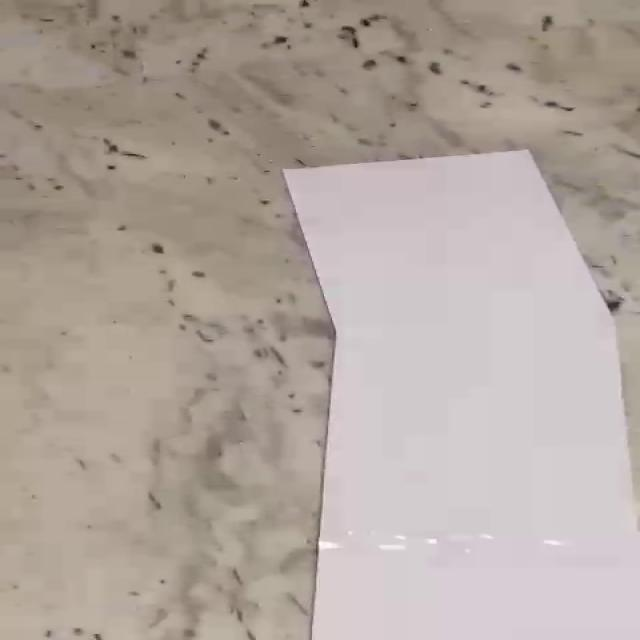road: (287, 150, 639, 640)
